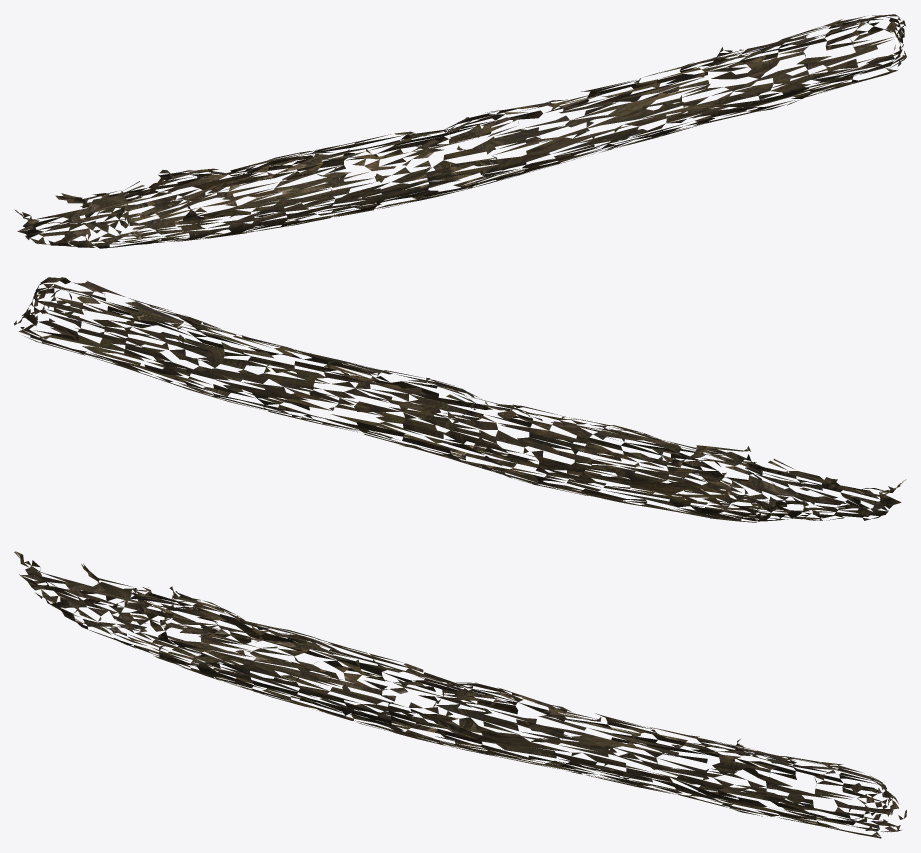
Rendered from dead_tree_trunk.glb.
3 renders of one model, top to bottom at view 1: azimuth 30°, elevation 25°; view 2: azimuth 150°, elevation 25°; view 3: azimuth 330°, elevation 25°, orthographic.
Visible parts, largest first — view 1: dead_tree_trunk; view 2: dead_tree_trunk; view 3: dead_tree_trunk.
Part boxes in pixels (x1,y1,x2,y2): dead_tree_trunk: [14, 14, 906, 248]; dead_tree_trunk: [14, 277, 905, 522]; dead_tree_trunk: [14, 551, 906, 838].
Size of the model in its own units: 3.03 by 0.2798 by 0.2699.
Materials: 1 (1 with a texture image).
